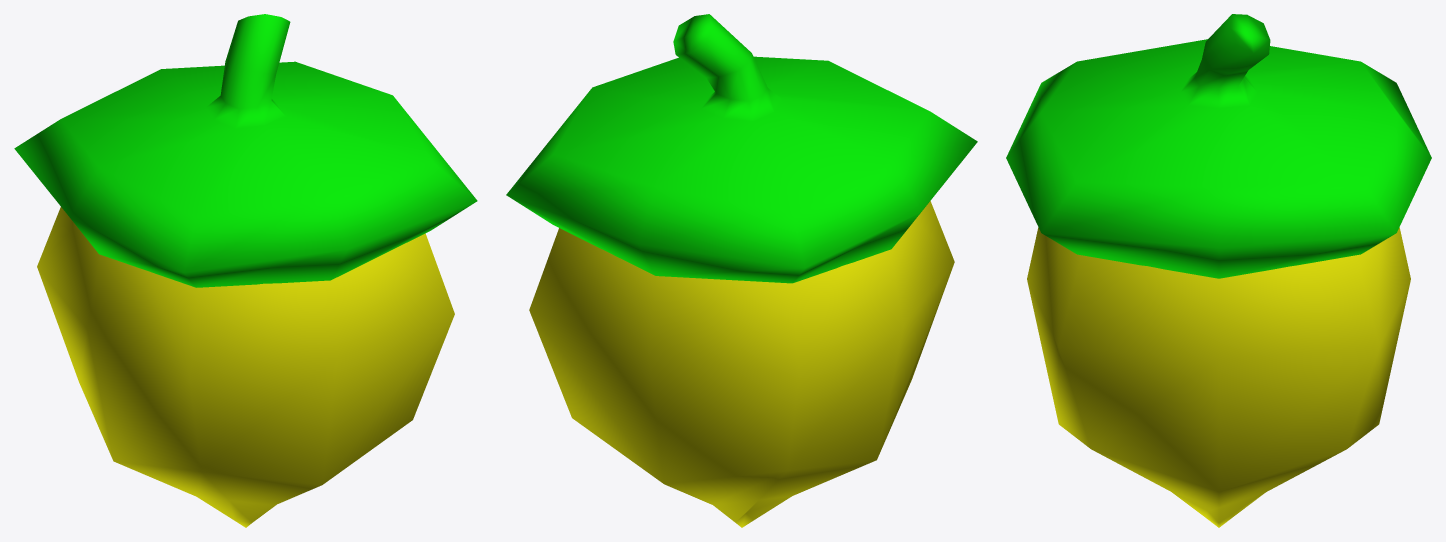
The model's file is Acorn.fbx.
3 renders of one model, left to right at view 1: azimuth 30°, elevation 25°; view 2: azimuth 150°, elevation 25°; view 3: azimuth 270°, elevation 25°, orthographic. The views are drawn at different scales.
Parts seen in each view (by area): view 1: Acrorn; view 2: Acrorn; view 3: Acrorn.
Boxes of the visible parts, bbox=[...] form: Acrorn: bbox=[14, 14, 477, 527]; Acrorn: bbox=[506, 14, 977, 527]; Acrorn: bbox=[1006, 14, 1431, 527].
Bounding box in the file's own units: 0.7159 × 0.9775 × 0.7159.
